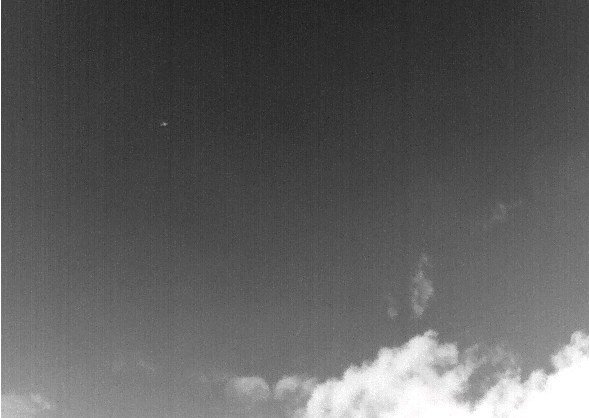dim target: (159, 121, 168, 127)
